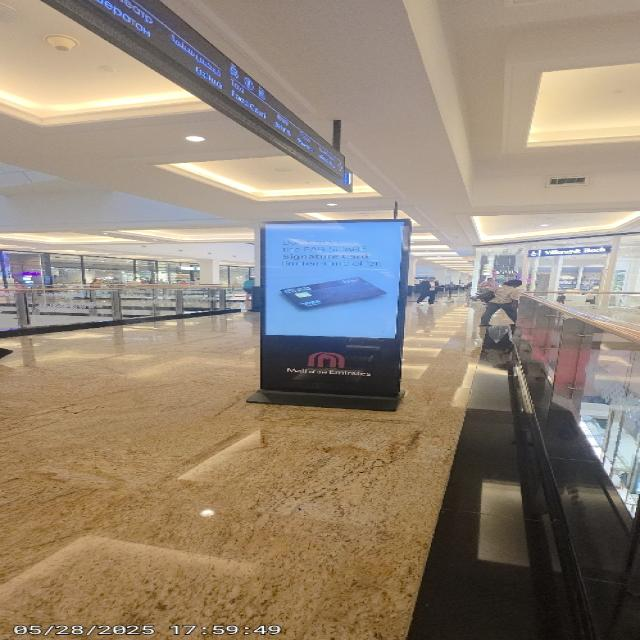mupi: (255, 219, 411, 396)
